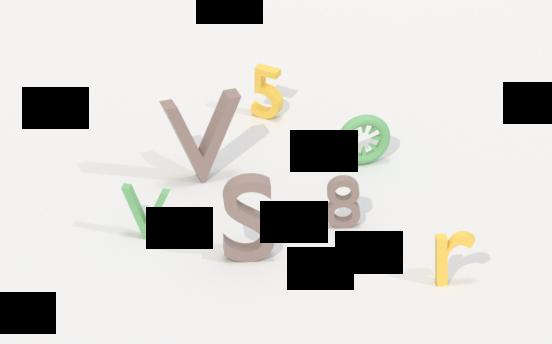5: (249, 60, 284, 123)
8: (320, 169, 362, 236)
R: (431, 228, 478, 293)
s: (217, 168, 278, 269)
tron: (338, 112, 391, 164)
v: (159, 89, 239, 188), (118, 181, 172, 244)
